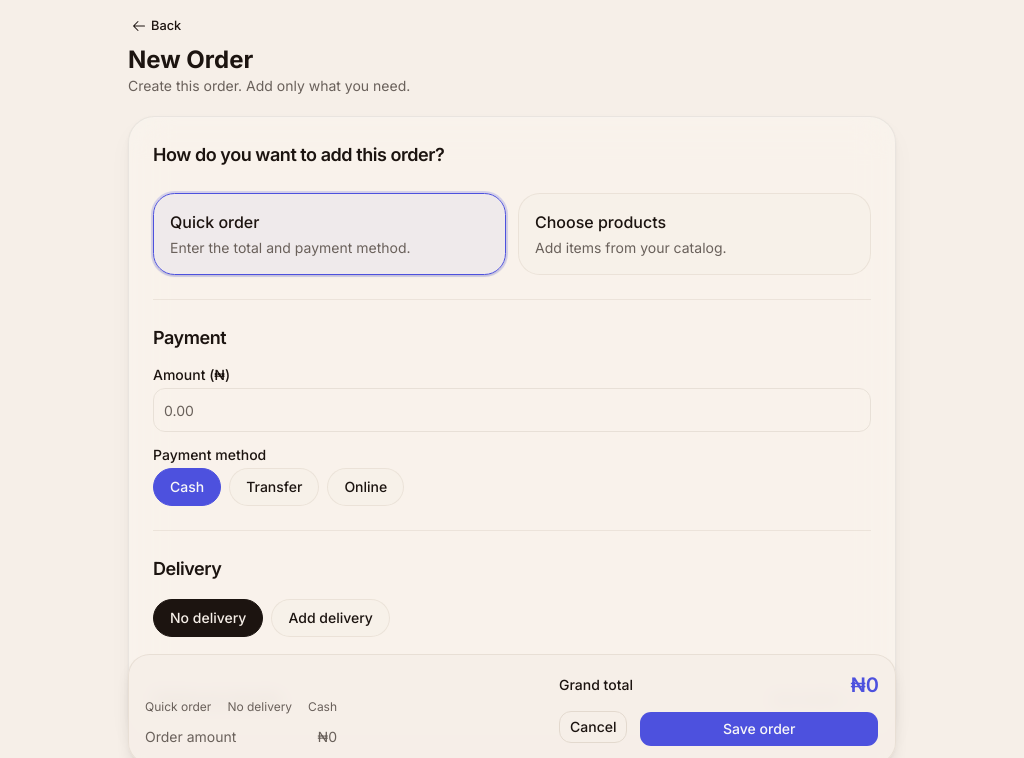
Scenario: NewOrderPage › shows helpful empty-state guidance when there are no products for catalog orders
Click the button "Choose products Add items from your catalog.": (601, 222) 518,193 -> 871,275
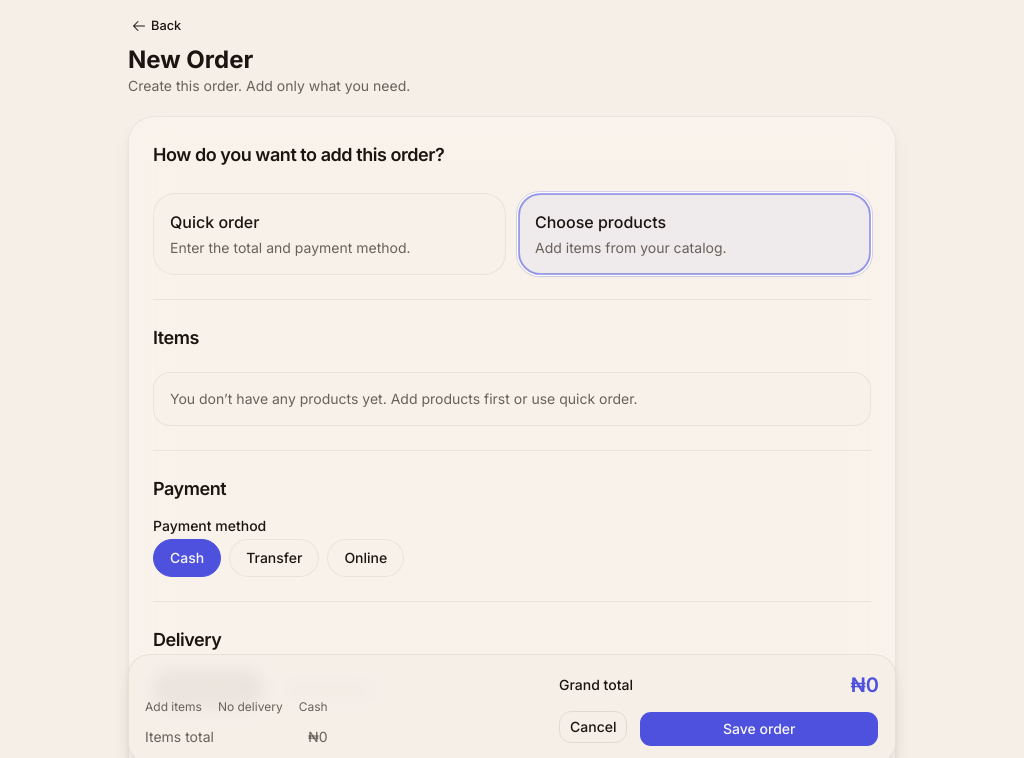
Now the text "You don’t have any products yet. Add products first or use quick order." is shown, box 153,372 -> 871,426
